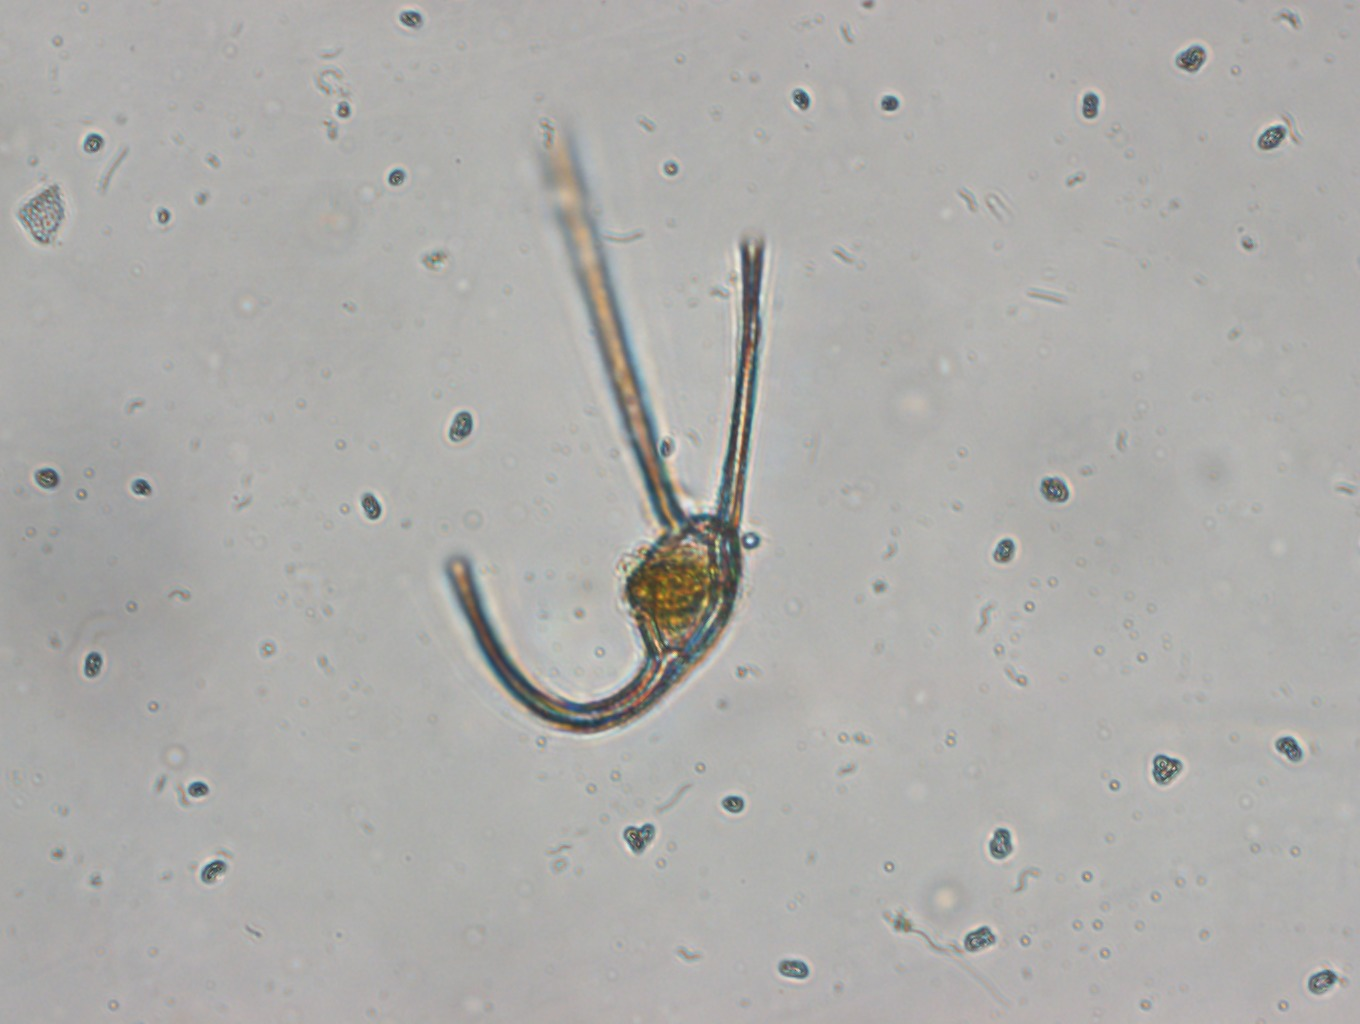ceratium trichoceros: (436, 101, 784, 742)
